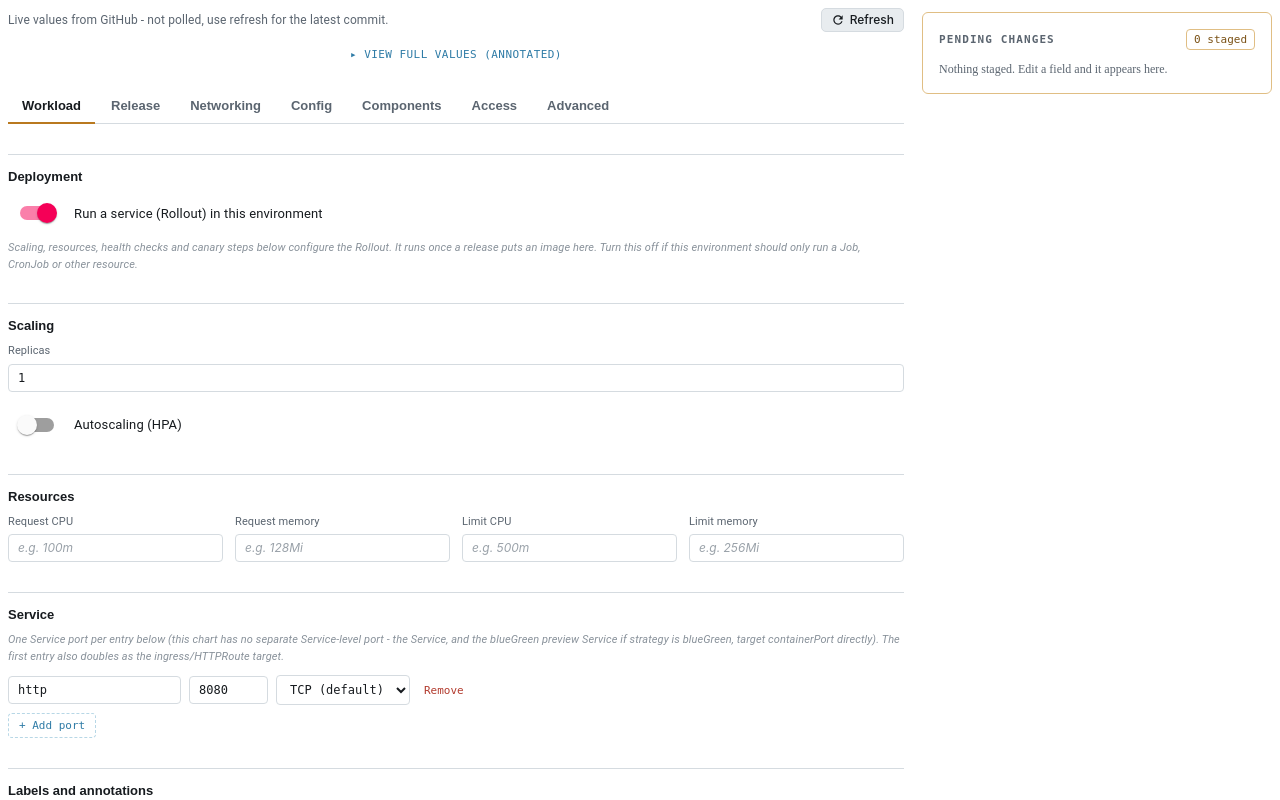
Test: values form: analysis templates and their scope › flags a cluster template the cluster does not have, listing the ones it has
This screenshot has width=1280, height=800.
Click the tab "Release". click: (136, 107)
box: [97, 89, 174, 124]
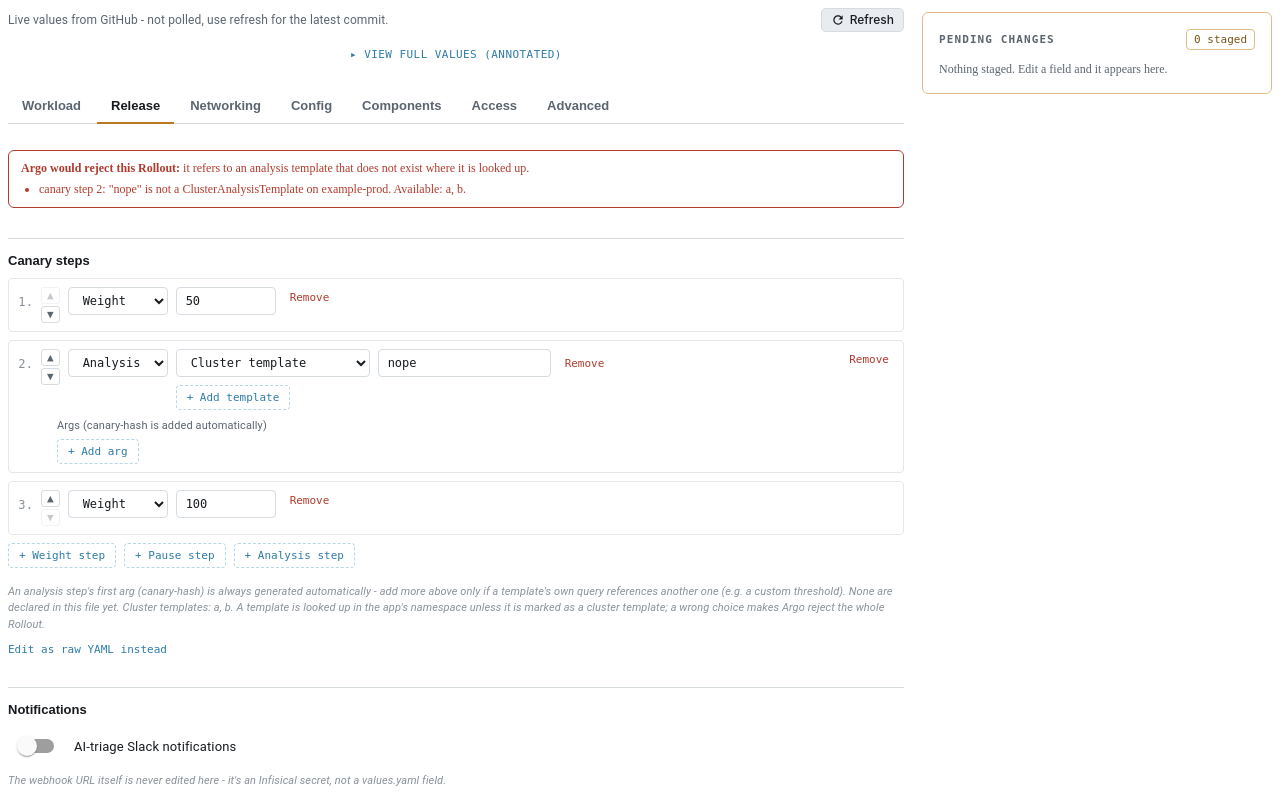
Result: the message shows "\"nope\" is not a ClusterAnalysisTemplate on example-prod. Available: a, b." at [39, 182, 466, 196]
